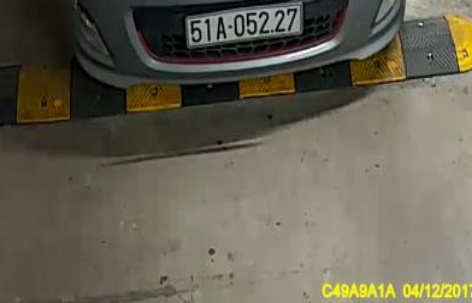plate: (183, 5, 309, 44)
